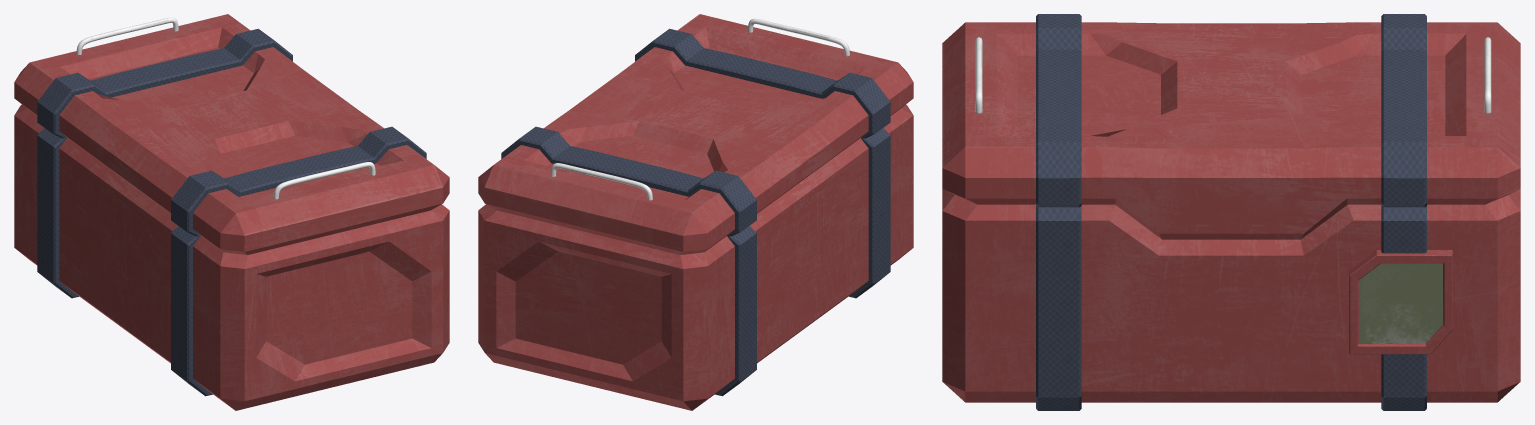
File: MatrixBoxAGB.fbx
The picture shows the model from 3 angles, left to right: view 1: azimuth 30°, elevation 25°; view 2: azimuth 150°, elevation 25°; view 3: azimuth 270°, elevation 25°; orthographic projection. The views are drawn at different scales.
Parts seen in each view (by area): view 1: pCube3; view 2: pCube3; view 3: pCube3.
Boxes of the visible parts, x1=… form: pCube3: x1=14, y1=14, x2=449, y2=410; pCube3: x1=478, y1=14, x2=913, y2=410; pCube3: x1=942, y1=14, x2=1520, y2=410.
Bounding box in the file's own units: 170 × 146 × 271.
4 materials, 4 textured.
